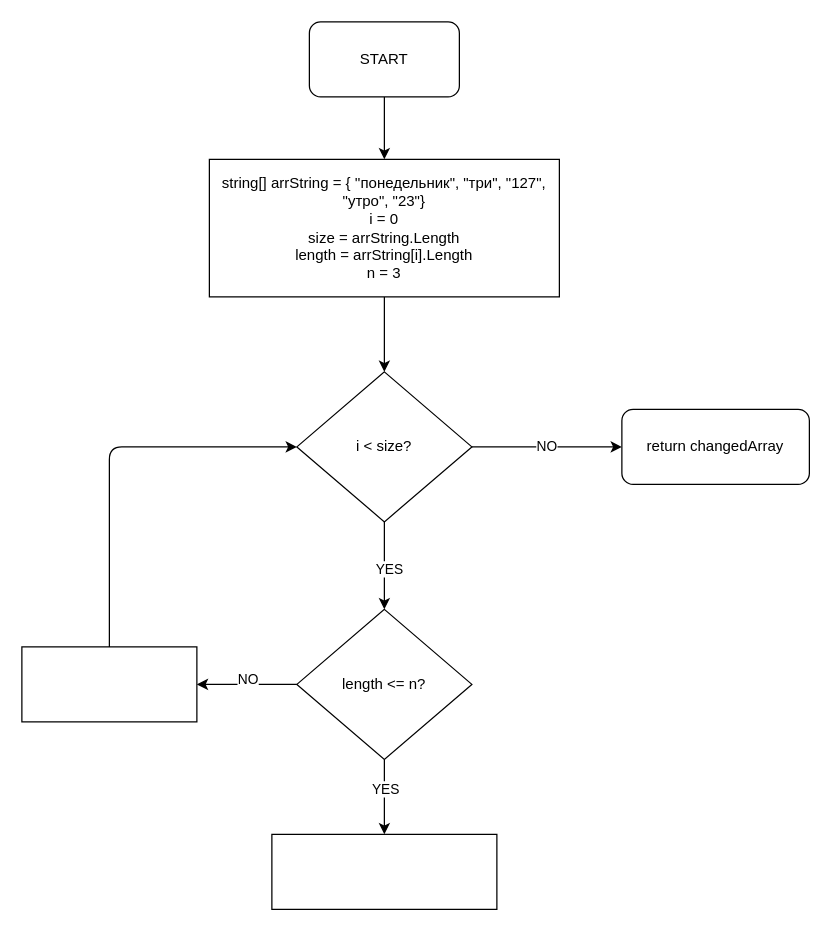
Some shapes in this 831 by 931 pixel diagram are drawn without their labels. The box of each missing label's shape, as (x1, y1, x2, y2) in pixels:
changedArray[i] = arrString[i]: (271, 833, 497, 909)
i++: (21, 646, 197, 722)
